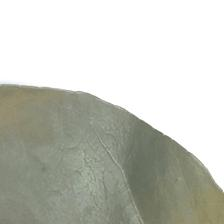healthy: (2, 89, 224, 224)
